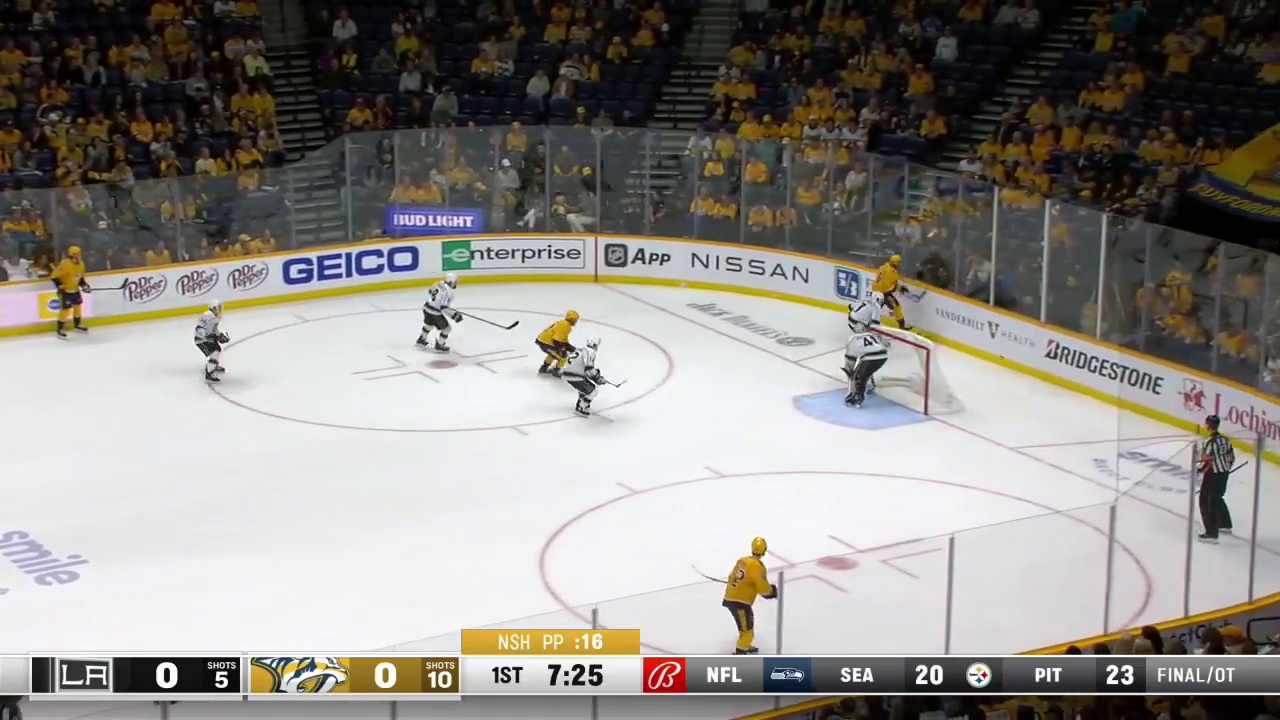goalie: (840, 323, 888, 407)
hockeyplayer: (722, 537, 778, 655), (415, 273, 463, 353), (50, 246, 91, 339), (560, 338, 605, 418), (871, 254, 912, 332), (535, 310, 579, 379), (194, 300, 229, 384), (847, 291, 891, 348)
referee: (1196, 415, 1235, 545)
